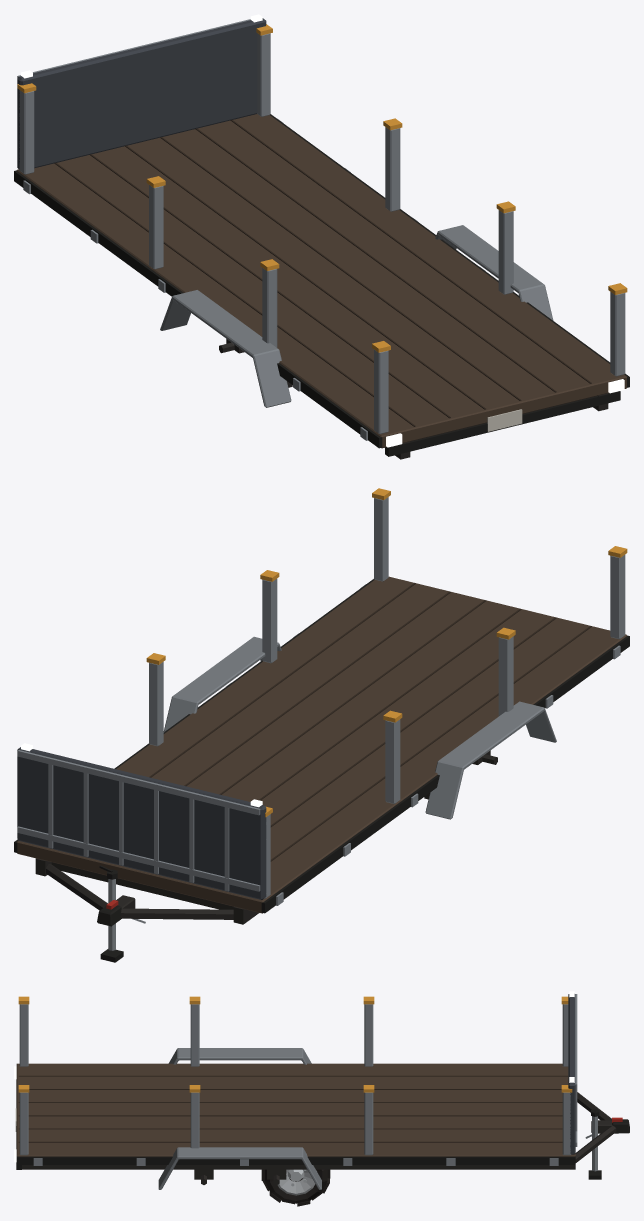
Rendered from HeavyHauler.glb.
3 views of the same model, one above another, from view 1: azimuth 30°, elevation 25°; view 2: azimuth 150°, elevation 25°; view 3: azimuth 270°, elevation 25° (orthographic). The views are drawn at different scales.
Parts seen in each view (by area): view 1: Bed, Body; view 2: Bed, Body, Hitch; view 3: Bed, Body, Wheel, Hitch.
Part boxes in pixels (x1=…): Bed: x1=14, y1=18, x2=629, y2=448; Body: x1=160, y1=225, x2=620, y2=459; Bed: x1=14, y1=488, x2=629, y2=913; Body: x1=35, y1=636, x2=556, y2=924; Hitch: x1=46, y1=864, x2=233, y2=962; Bed: x1=16, y1=994, x2=577, y2=1165; Body: x1=15, y1=1048, x2=575, y2=1189; Wheel: x1=261, y1=1169, x2=330, y2=1206; Hitch: x1=575, y1=1092, x2=629, y2=1179.
Bounding box in the file's own units: 12 × 8.58 × 28.64.
